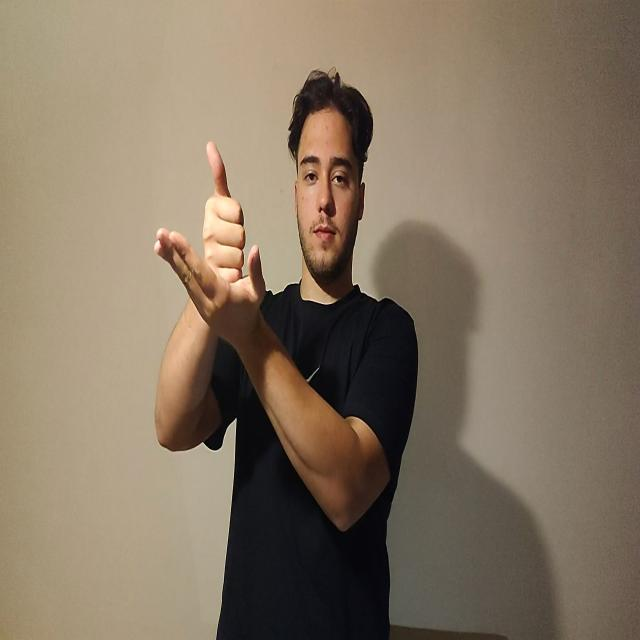help: (155, 144, 266, 343)
